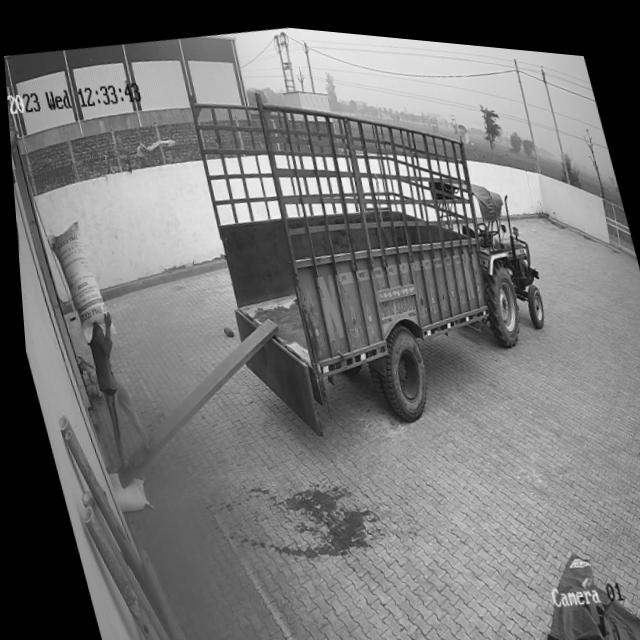sack: (39, 216, 114, 347), (99, 466, 144, 514)
